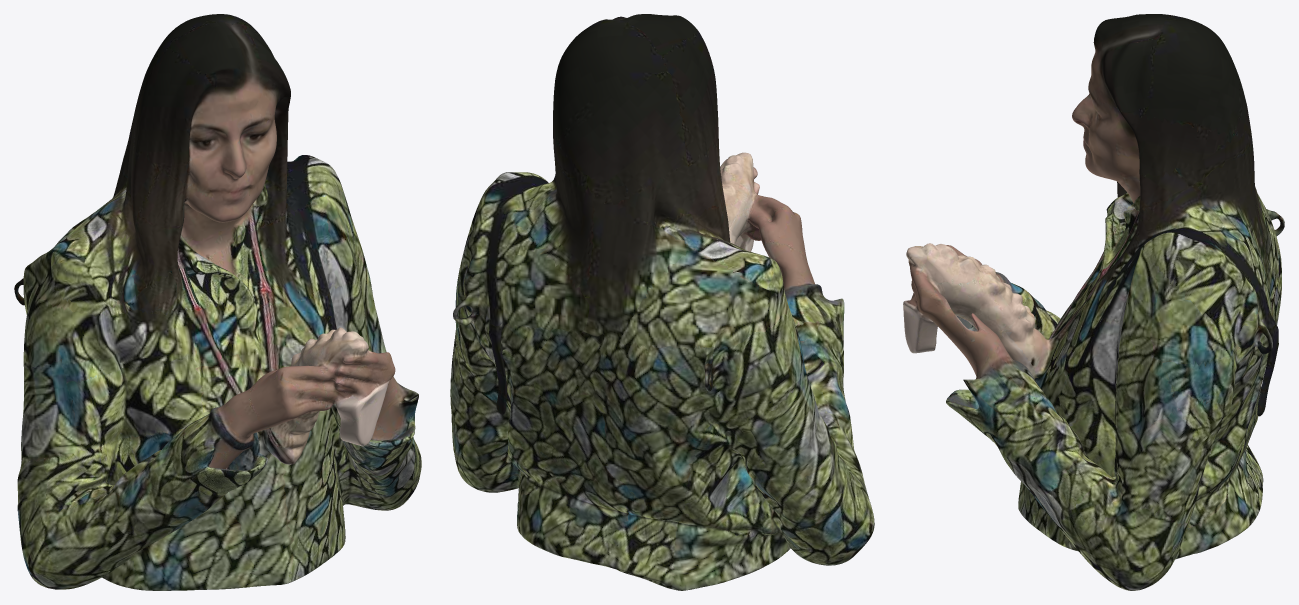
File: Final_maryana_iskander_2MBcompressed.glb
3 views of the same model, side by side, from view 1: azimuth 30°, elevation 25°; view 2: azimuth 150°, elevation 25°; view 3: azimuth 270°, elevation 25° (orthographic). The views are drawn at different scales.
Bounding box in the file's own units: 1.54 × 1.9 × 1.33.
1 material, 1 textured.
